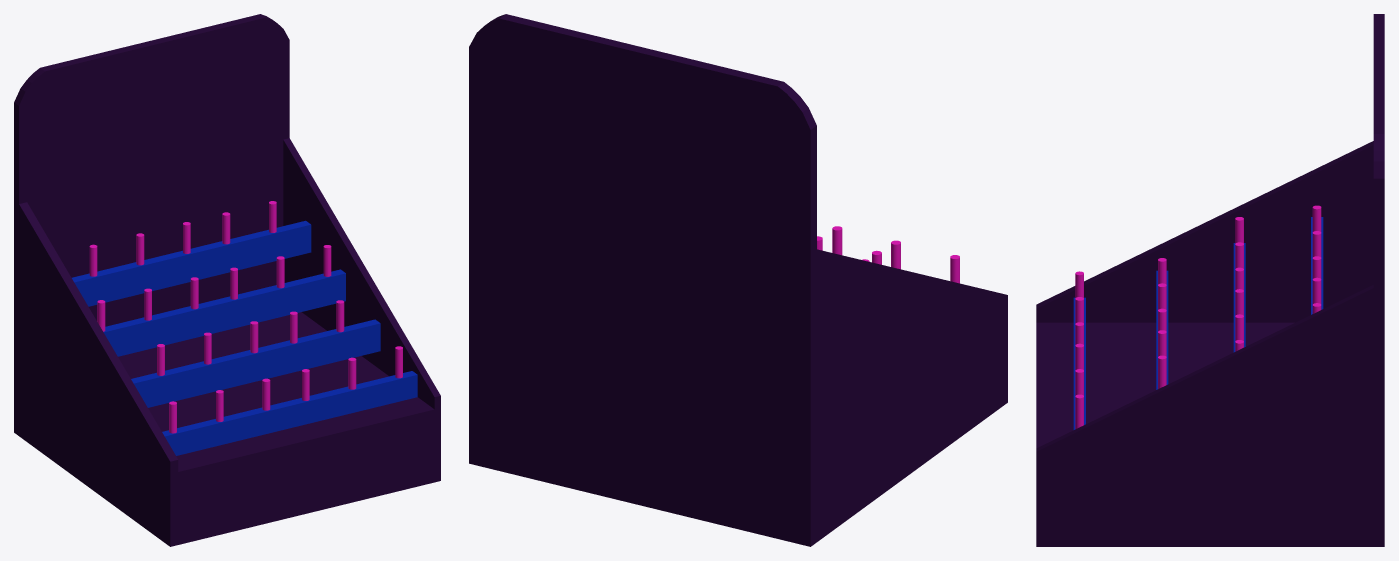
The model's file is F_RingoMachine_02.fbx.
3 views of the same model, side by side, from view 1: azimuth 30°, elevation 25°; view 2: azimuth 150°, elevation 25°; view 3: azimuth 270°, elevation 25° (orthographic). The views are drawn at different scales.
Visible parts, largest first — view 1: F_RingoMachine; view 2: F_RingoMachine; view 3: F_RingoMachine.
Boxes of the visible parts, bbox=[...] form: F_RingoMachine: bbox=[14, 14, 440, 546]; F_RingoMachine: bbox=[469, 14, 1007, 546]; F_RingoMachine: bbox=[1036, 14, 1384, 546].
Bounding box in the file's own units: 200 × 253 × 200.
